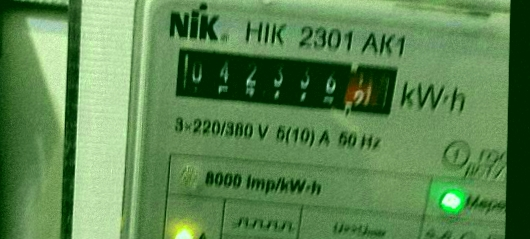0: (190, 56, 203, 85)
2: (242, 59, 260, 86)
3: (269, 60, 285, 89), (298, 61, 312, 89)
4: (216, 57, 232, 85)
6: (323, 68, 338, 95)
screen: (164, 38, 406, 125)
